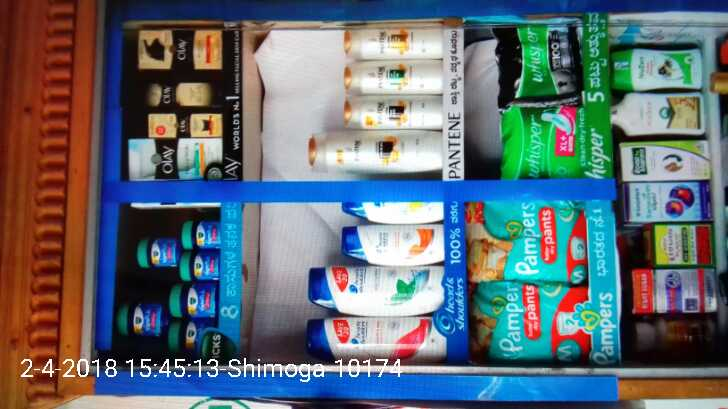vicks: (114, 220, 218, 357)
